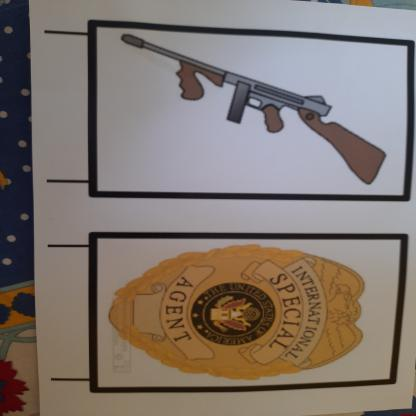Bootlegger: (96, 20, 400, 196)
G-man: (99, 234, 383, 384)
